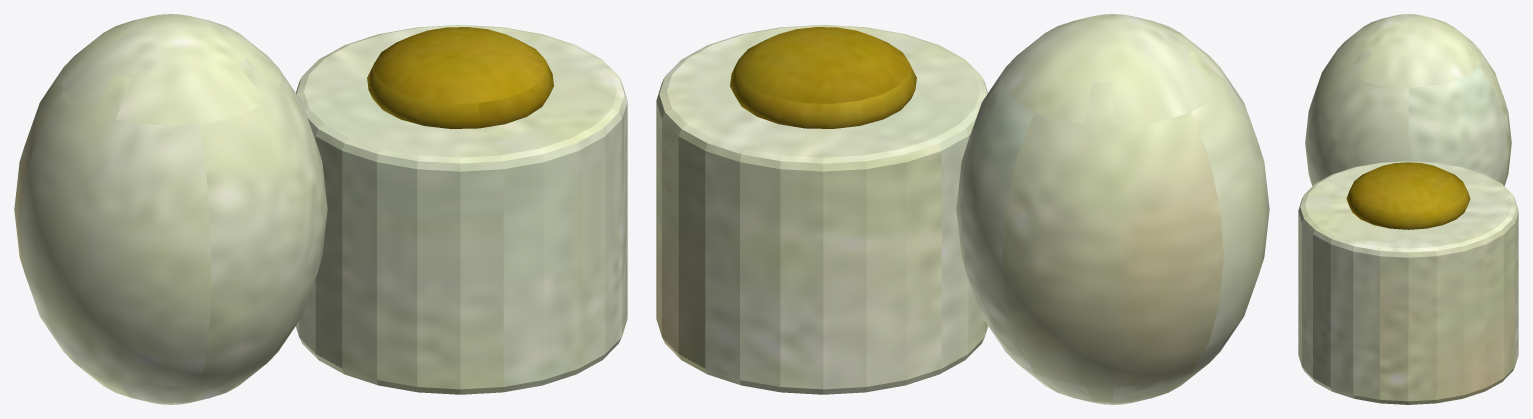
Rendered from Food_telur_rebus.fbx.
The picture shows the model from 3 angles, left to right: view 1: azimuth 30°, elevation 25°; view 2: azimuth 150°, elevation 25°; view 3: azimuth 270°, elevation 25°; orthographic projection. The views are drawn at different scales.
Visible parts, largest first — view 1: Food_telur_rebus; view 2: Food_telur_rebus; view 3: Food_telur_rebus.
Part boxes in pixels (x1,y1,x2,y2): Food_telur_rebus: (14, 14, 627, 404); Food_telur_rebus: (656, 14, 1269, 404); Food_telur_rebus: (1298, 14, 1518, 404).
Size of the model in its own units: 0.126 by 0.079 by 0.064.
